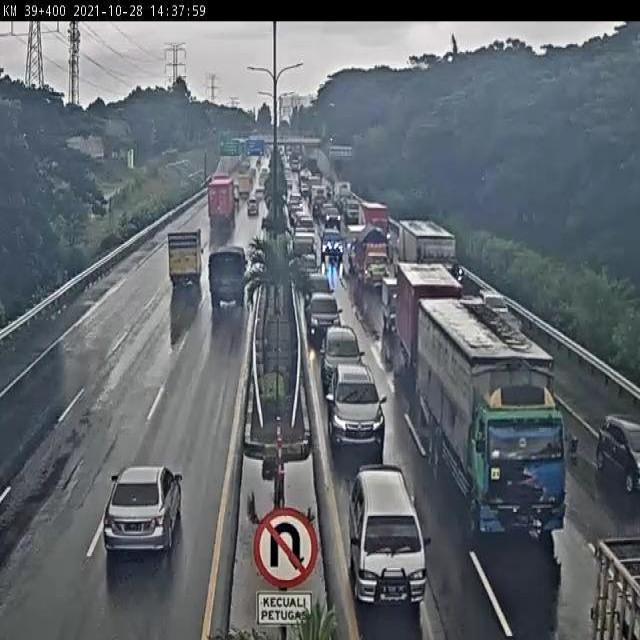big truck: (456, 349, 593, 556)
car: (342, 467, 438, 624), (102, 455, 180, 572), (331, 352, 388, 455), (596, 405, 640, 508), (208, 246, 254, 314), (305, 287, 346, 353), (326, 325, 365, 388), (474, 287, 515, 333), (377, 271, 405, 336), (304, 267, 333, 305), (321, 228, 346, 271), (295, 251, 322, 281)
small truck: (165, 232, 212, 296), (352, 233, 390, 290)
